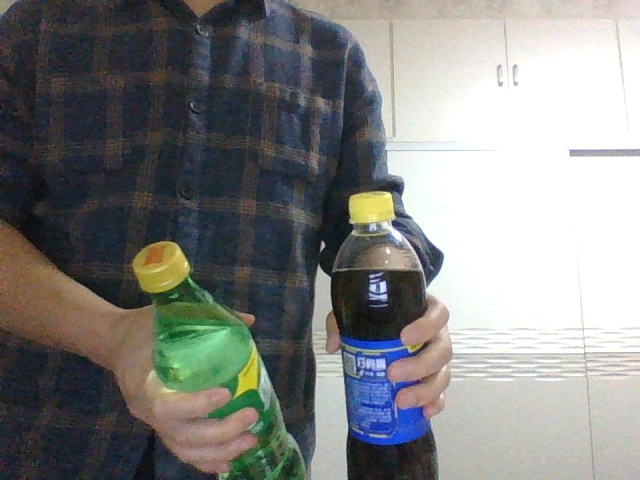Cola: (330, 188, 441, 478)
Sprite: (130, 240, 307, 479)
